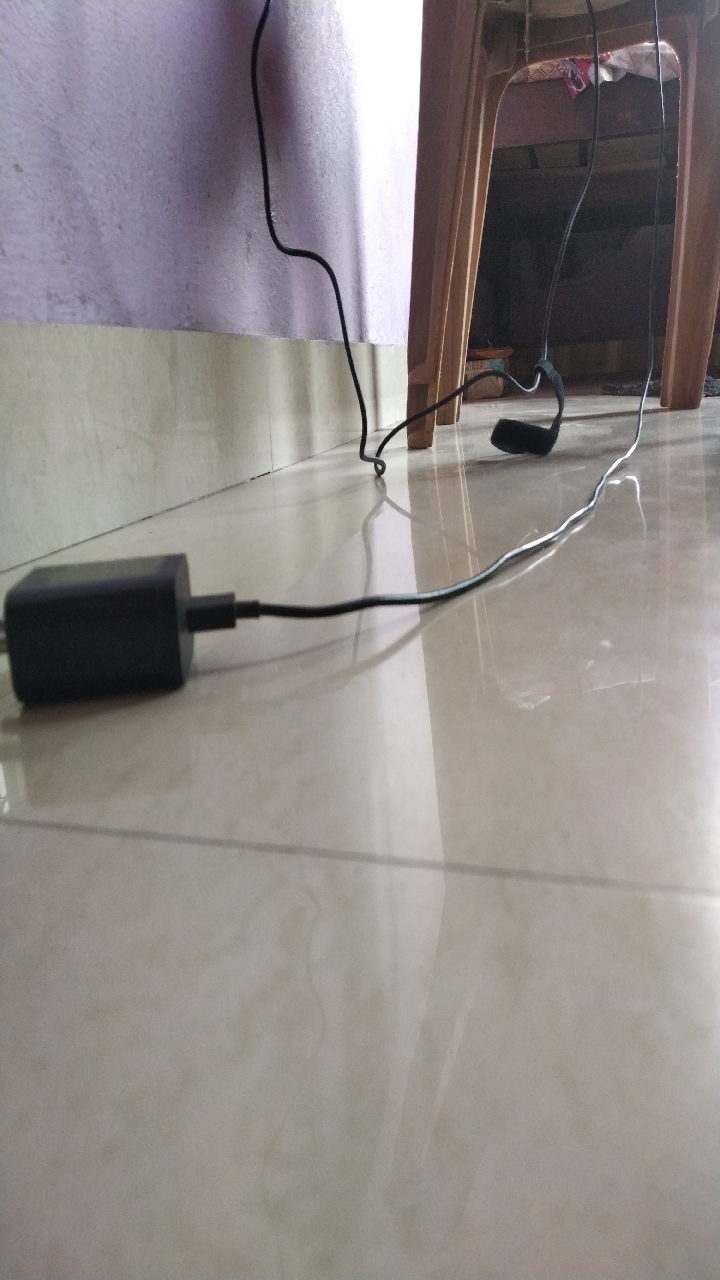Furnitures: (394, 142, 718, 465)
cables: (12, 527, 672, 729), (231, 10, 395, 500), (525, 65, 671, 480)
